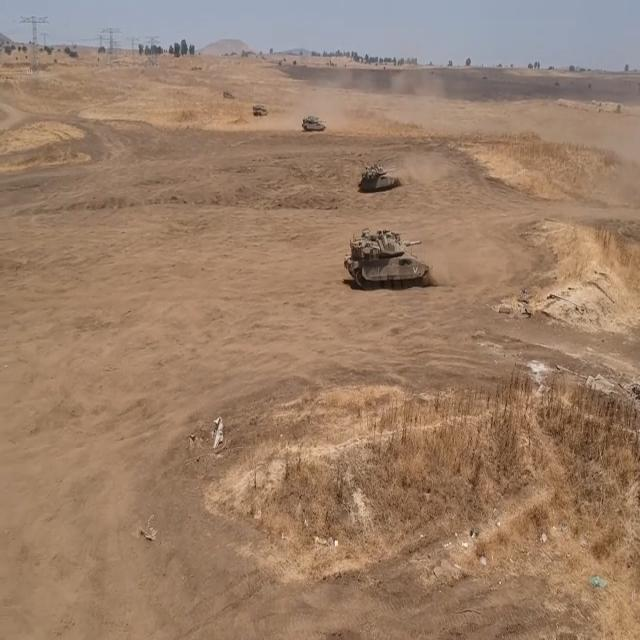tank: (343, 227, 432, 287), (359, 159, 401, 188), (297, 113, 329, 134), (250, 99, 271, 119)
